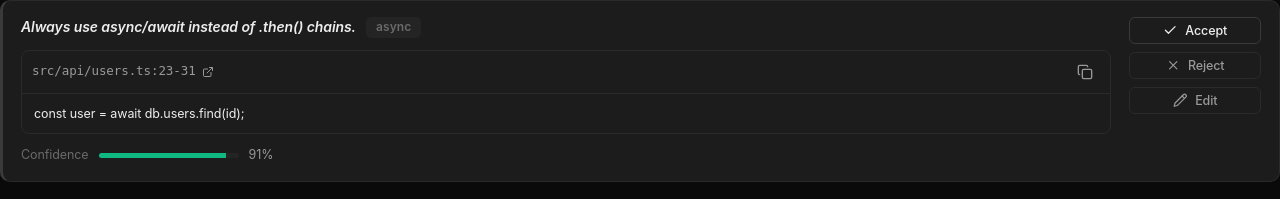
Scenario: CandidateCard › drops the draft on cancel
Click the button "Edit" at [1195, 100], box x1=1129 y1=87 x2=1261 y2=114
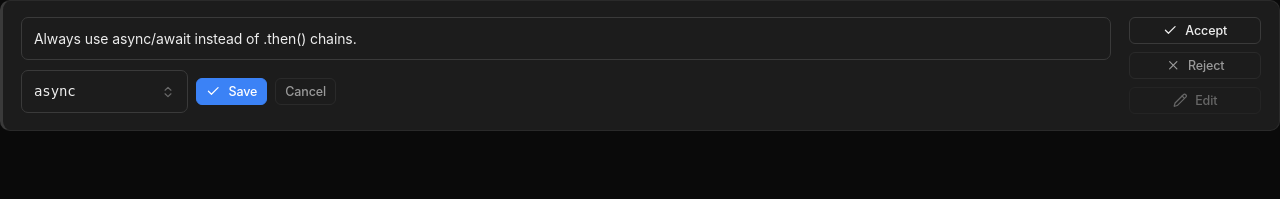
Replace the text in the field named "convention rule" with "Something else" at [566, 38], box x1=34 y1=28 x2=1098 y2=49
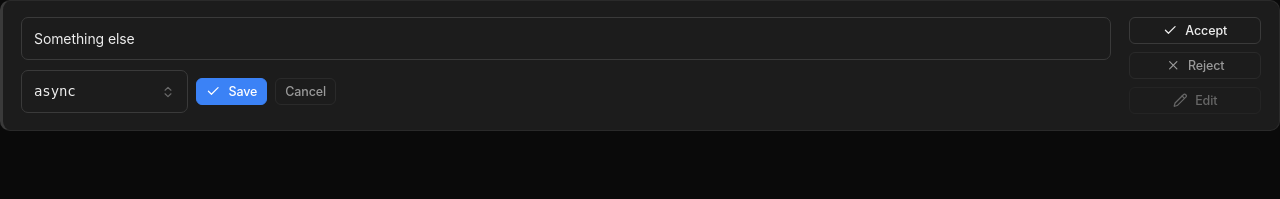
Click the button "Cancel" at [306, 92], box x1=275 y1=78 x2=336 y2=105
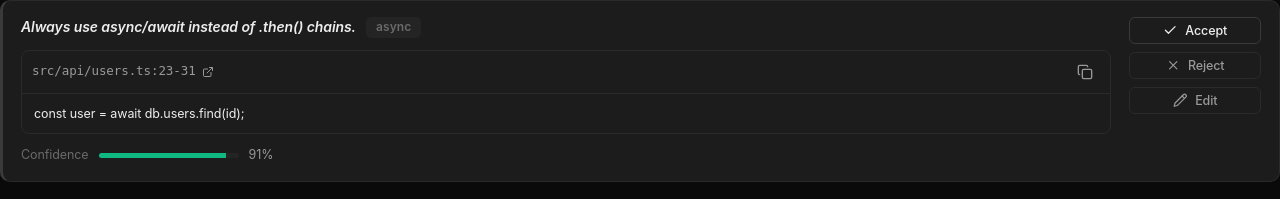
Check: the heading "Always use async/await instead of .then() chains." is shown, box x1=21 y1=17 x2=356 y2=38
